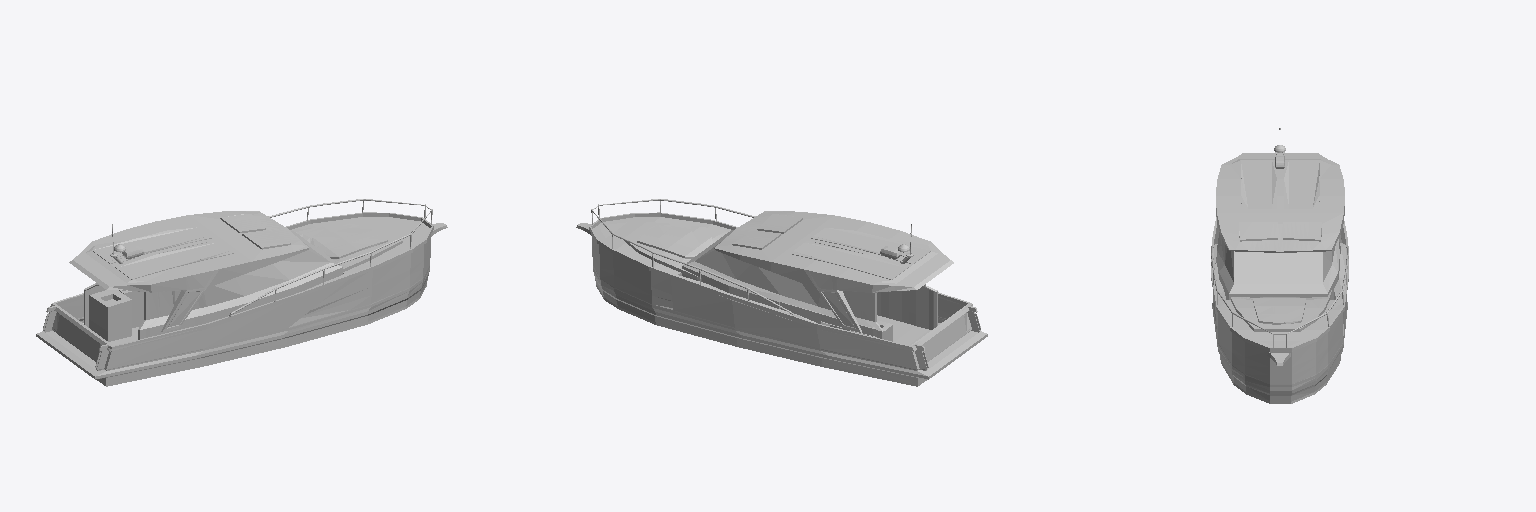
Rendered from boat.obj.
3 renders of one model, left to right at view 1: azimuth 30°, elevation 25°; view 2: azimuth 150°, elevation 25°; view 3: azimuth 270°, elevation 25°, orthographic.
Parts seen in each view (by area): view 1: bat_du_bateau_Cube.001, toit_Cube.002, vitre_Cube.004, capo_Cube.005, barre_haut_Cylinder.008; view 2: bat_du_bateau_Cube.001, toit_Cube.002, vitre_Cube.004, capo_Cube.005, barre_haut_Cylinder.008; view 3: toit_Cube.002, bat_du_bateau_Cube.001, vitre_Cube.004, capo_Cube.005.
Part boxes in pixels (left/top/right/bottom): bat_du_bateau_Cube.001: left=36, top=212, right=433, bottom=386; toit_Cube.002: left=69, top=211, right=308, bottom=332; vitre_Cube.004: left=84, top=231, right=342, bottom=345; capo_Cube.005: left=296, top=223, right=402, bottom=271; barre_haut_Cylinder.008: left=229, top=199, right=431, bottom=316; bat_du_bateau_Cube.001: left=589, top=212, right=987, bottom=386; toit_Cube.002: left=714, top=211, right=953, bottom=332; vitre_Cube.004: left=682, top=230, right=937, bottom=345; capo_Cube.005: left=624, top=222, right=727, bottom=281; barre_haut_Cylinder.008: left=592, top=199, right=794, bottom=316; toit_Cube.002: left=1216, top=153, right=1344, bottom=252; bat_du_bateau_Cube.001: left=1211, top=217, right=1348, bottom=403; vitre_Cube.004: left=1217, top=232, right=1339, bottom=299; capo_Cube.005: left=1231, top=290, right=1331, bottom=331.
Size of the model in its own units: 12.65 by 4.26 by 4.